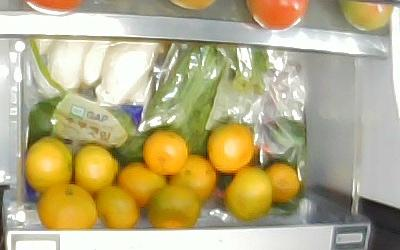tangerine: (38, 184, 96, 229), (24, 137, 71, 192), (225, 165, 270, 220), (74, 145, 117, 198), (149, 185, 201, 228), (117, 163, 166, 207), (208, 125, 252, 172), (171, 154, 215, 200), (94, 185, 140, 229), (144, 130, 188, 176), (264, 160, 298, 201)
